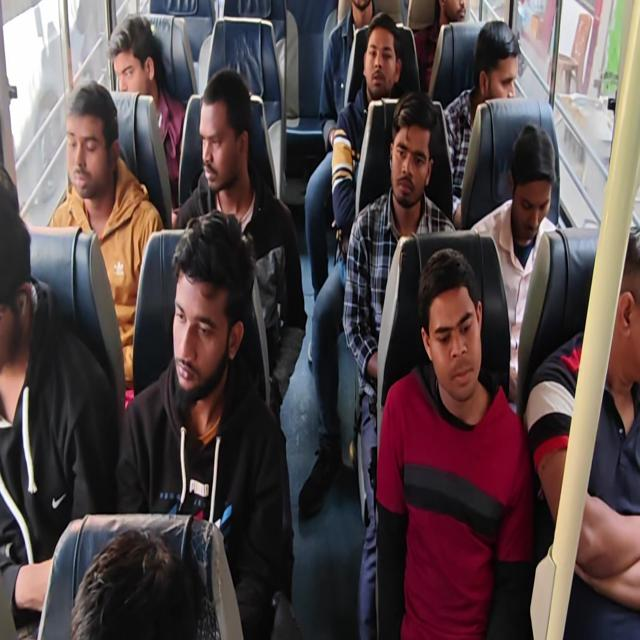person: (58, 511, 218, 640), (412, 251, 505, 425), (158, 235, 242, 402), (599, 239, 640, 410), (506, 126, 558, 251), (0, 176, 34, 362), (197, 83, 252, 186), (388, 117, 438, 215), (473, 20, 520, 112), (66, 91, 106, 198), (111, 26, 160, 112), (367, 19, 396, 95), (434, 0, 472, 26), (346, 0, 384, 25)
